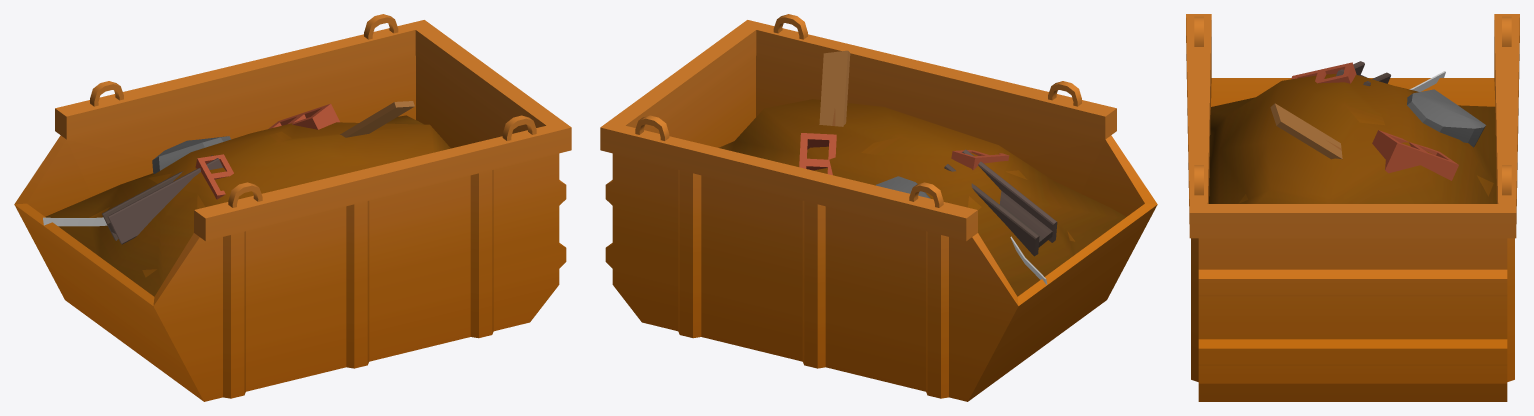
The model's file is RubbleContainer_B_2.fbx.
The picture shows the model from 3 angles, left to right: view 1: azimuth 30°, elevation 25°; view 2: azimuth 150°, elevation 25°; view 3: azimuth 270°, elevation 25°; orthographic projection. The views are drawn at different scales.
Parts seen in each view (by area): view 1: RubbleContainer_B_2; view 2: RubbleContainer_B_2; view 3: RubbleContainer_B_2.
Part boxes in pixels (x1,y1,x2,y2): RubbleContainer_B_2: (14,14,571,401); RubbleContainer_B_2: (600,14,1157,401); RubbleContainer_B_2: (1186,14,1519,401).
Bounding box in the file's own units: 413 × 210 × 260.
